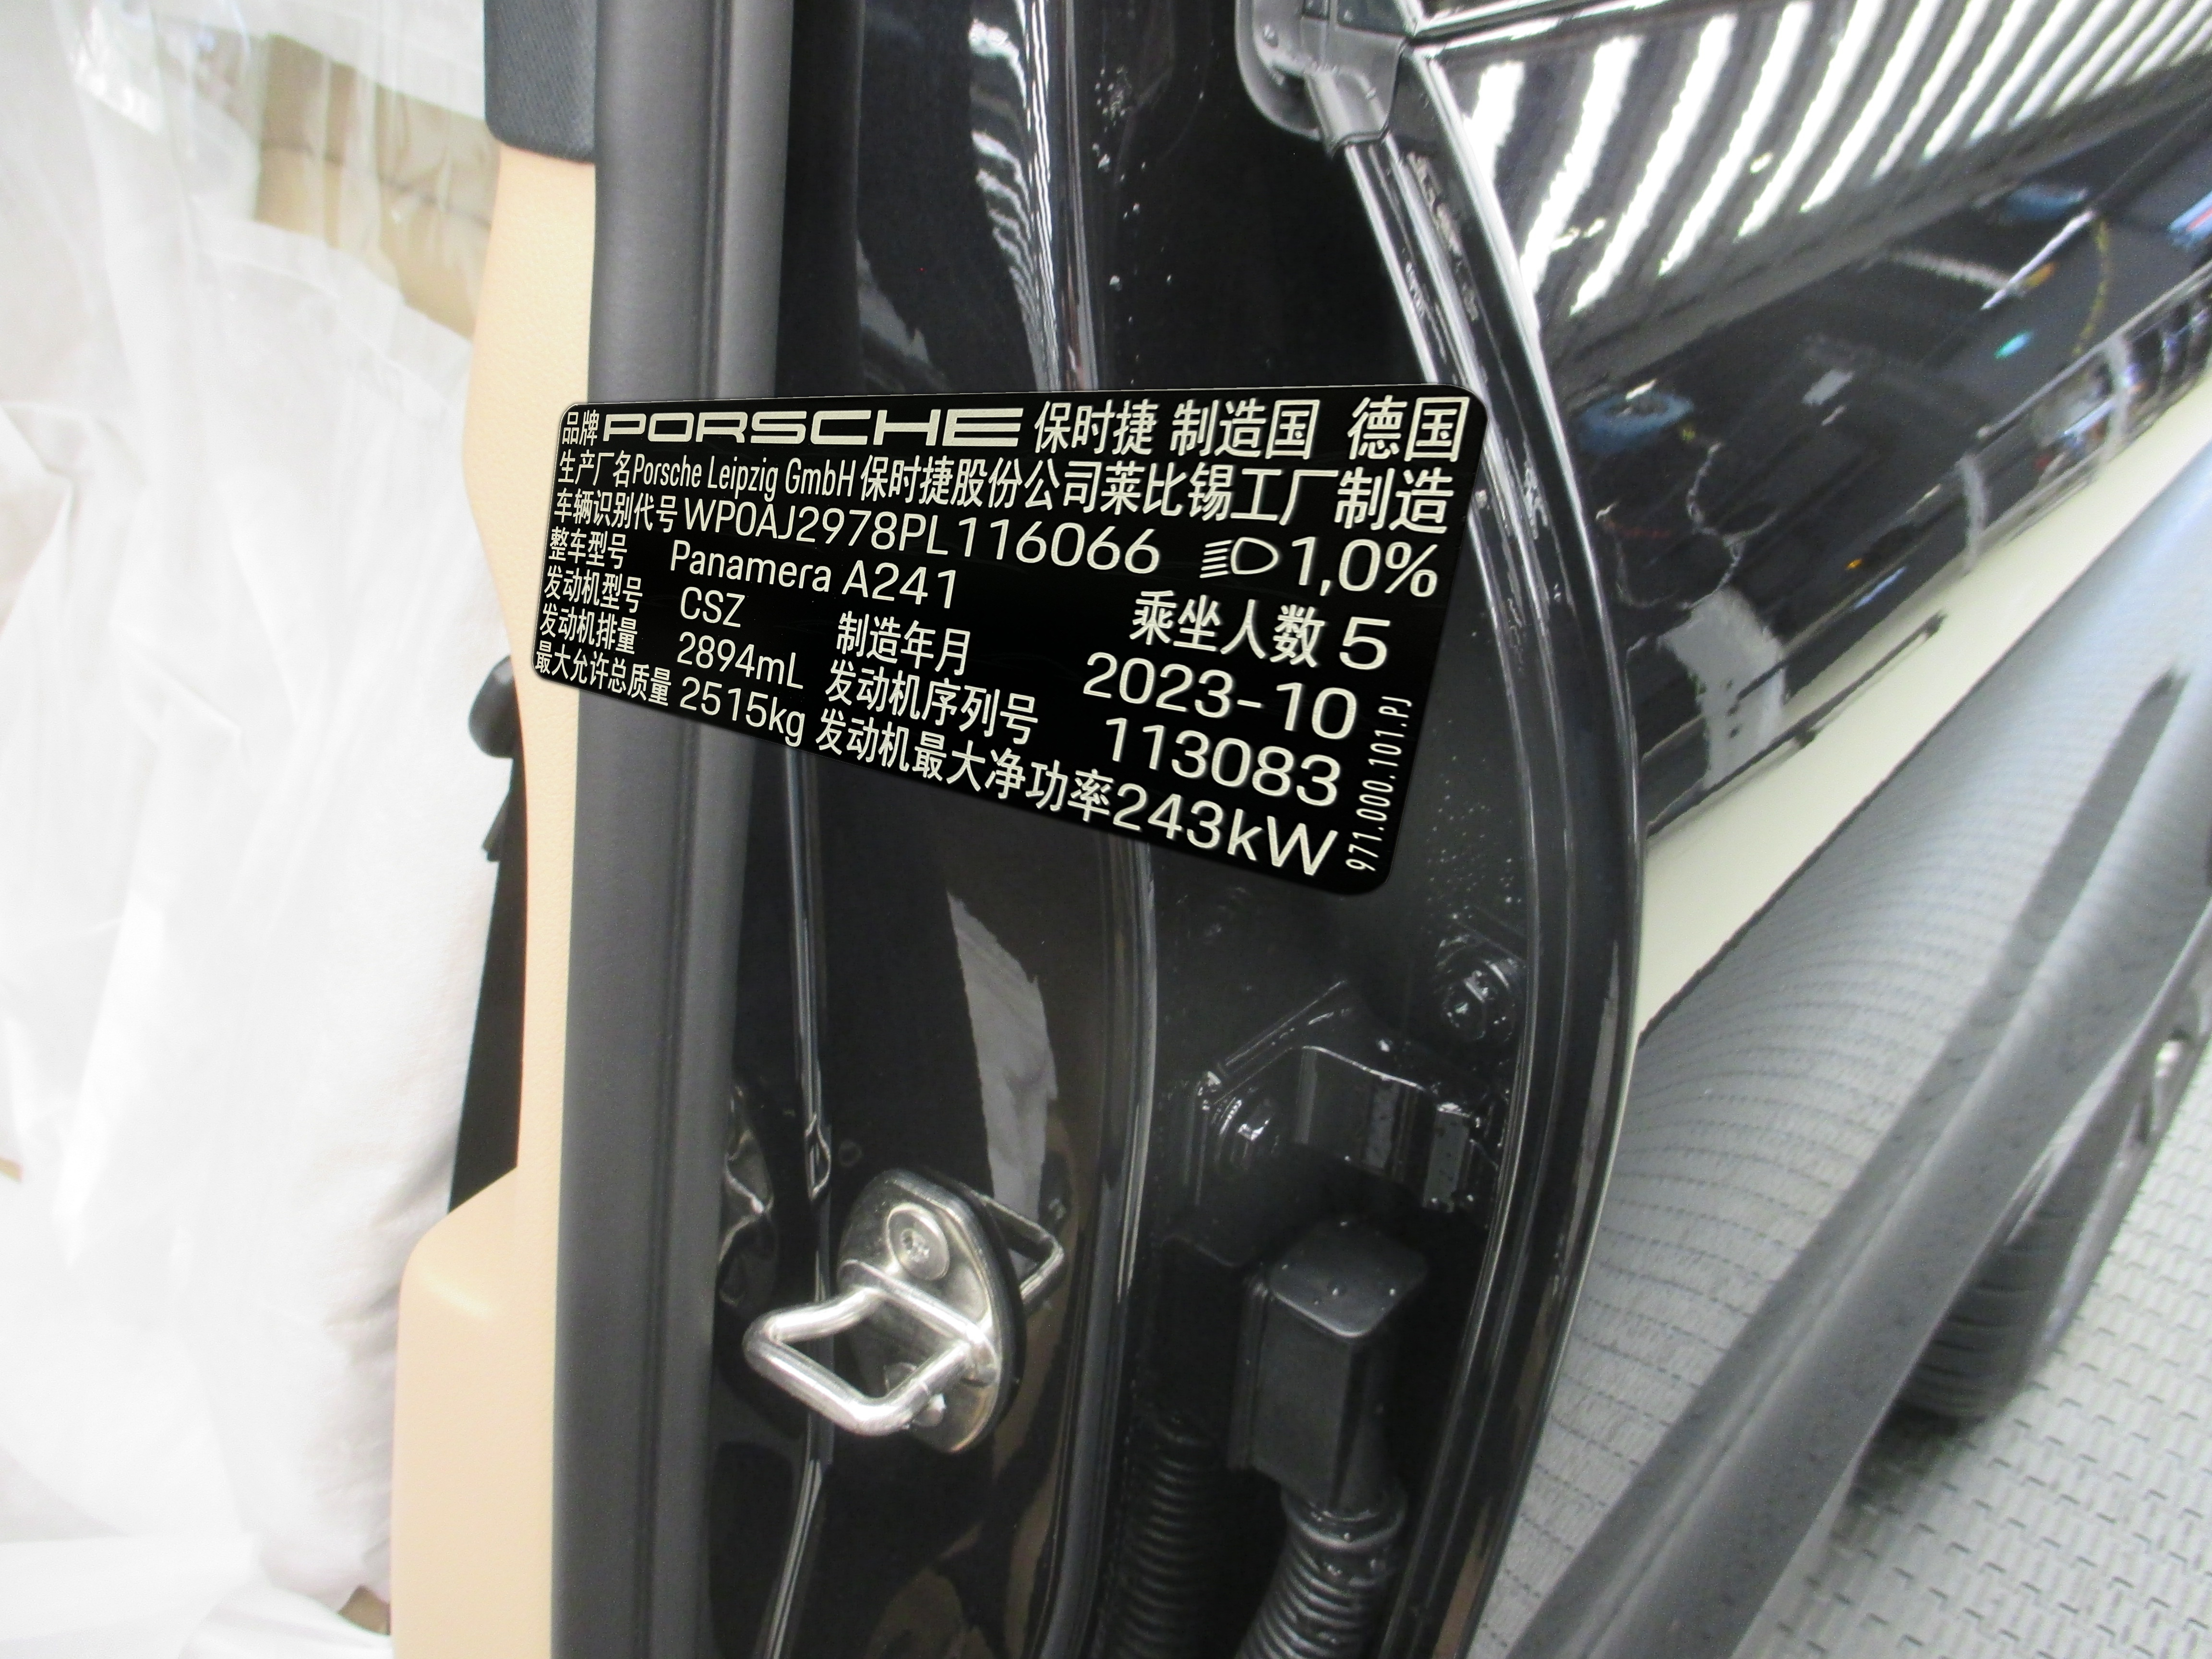Typlabel-China: (533, 383, 1489, 896)
